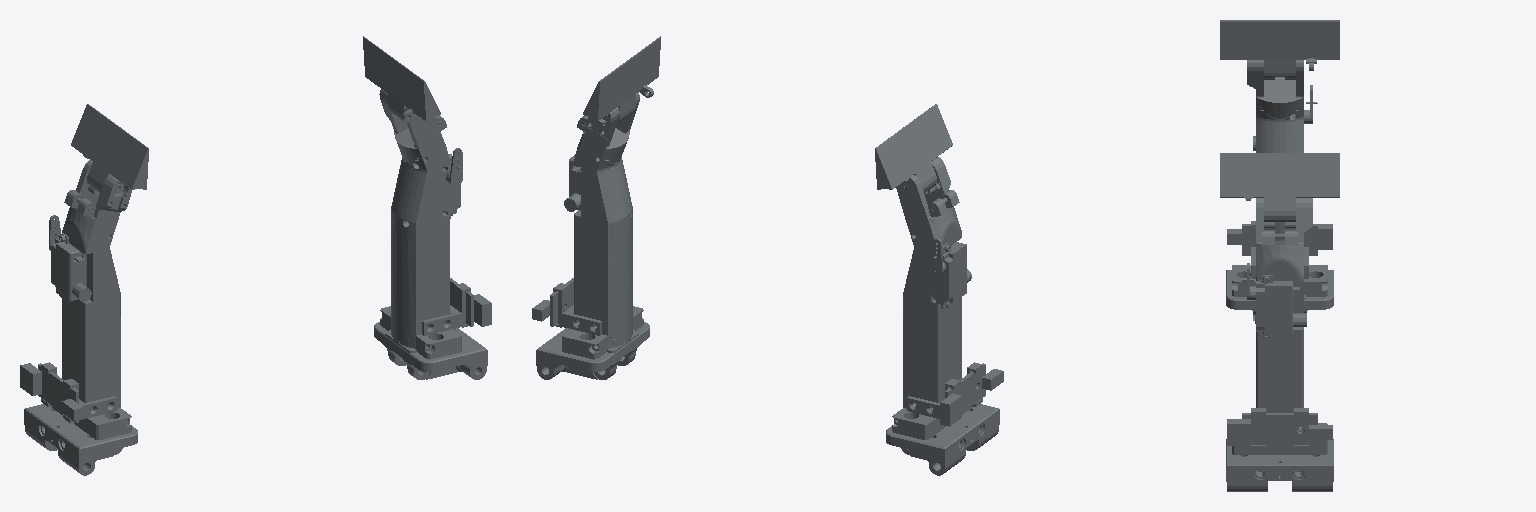
The robot description file, URDF, robot "lc_soft_enable_wide_grip":
<robot name="lc_soft_enable_wide_grip">
	<link name="base_link">
		<collision>
			<geometry>
				<mesh filename="package://lc_soft_enable_wide_grip/meshes/lc_soft_enable_wide_grip_Base_SWA_collision.stl" scale="1.0 1.0 1.0" />
			</geometry>
			<origin rpy="0 0 0" xyz="0 0 0" />
		</collision>
		<visual>
			<geometry>
				<mesh filename="package://lc_soft_enable_wide_grip/meshes/lc_soft_enable_wide_grip_Base_SWA.stl" scale="1.0 1.0 1.0" />
			</geometry>
			<origin rpy="0 0 0" xyz="0 0 0" />
			<material name="lc_soft_enable_wide_grip_Base_SWA.stl">
				<color rgba="0.4891 0.5125 0.5281 1.0" />
			</material>
		</visual>
		<inertial>
			<inertia ixx="0.0025119065" ixy="6.6303825e-07" ixz="3.2623689e-07" iyy="0.0022695104" iyz="3.6003285e-05" izz="0.0011107062" />
			<origin rpy="0 0 0" xyz="8.0969962e-06 0.0055754613 0.06269477" />
			<mass value="1.088118" />
		</inertial>
	</link>
	<link name="right_finger_link">
		<collision>
			<geometry>
				<mesh filename="package://lc_soft_enable_wide_grip/meshes/right_base_100.stl" scale="0.001 0.001 0.001" />
			</geometry>
			<origin rpy="0 0 0" xyz="0 0 0" />
		</collision>
		<visual>
			<geometry>
				<mesh filename="package://lc_soft_enable_wide_grip/meshes/right_base_100.stl" scale="0.001 0.001 0.001" />
			</geometry>
			<origin rpy="0 0 0" xyz="0 0 0" />
			<material name="lc_soft_enable_wide_grip_Right_Base_RIGHT_BASE.stl">
				<color rgba="0.4891 0.5125 0.5281 1.0" />
			</material>
		</visual>
		<inertial>
			<inertia ixx="1.1768394e-05" ixy="-6.2909428e-08" ixz="-3.6349539e-06" iyy="3.9431049e-05" iyz="-3.2865666e-07" izz="4.1707704e-05" />
			<origin rpy="0 0 0" xyz="0.020046839 -0.00032181022 -0.0055554777" />
			<mass value="0.071622239" />
		</inertial>
	</link>
	<link name="right_tip_link">
		<collision>
			<geometry>
				<mesh filename="package://lc_soft_enable_wide_grip/meshes/right_distal_20.stl" scale="0.001 0.001 0.001" />
			</geometry>
			<origin rpy="0 0 0" xyz="0 0 0" />
		</collision>
		<visual>
			<geometry>
				<mesh filename="package://lc_soft_enable_wide_grip/meshes/right_distal_20.stl" scale="0.001 0.001 0.001" />
			</geometry>
			<origin rpy="0 0 0" xyz="0 0 0" />
			<material name="lc_soft_enable_wide_grip_Right_Distal_RIGHT_DISTAL.stl">
				<color rgba="0.4891 0.5125 0.5281 1.0" />
			</material>
		</visual>
		<inertial>
			<inertia ixx="2.4290894e-06" ixy="2.7371321e-07" ixz="-4.0328611e-09" iyy="2.6146567e-06" iyz="9.9713504e-09" izz="6.7624098e-07" />
			<origin rpy="0 0 0" xyz="-0.0081993292 0.0060080724 0.00015047764" />
			<mass value="0.013727707" />
		</inertial>
	</link>
	<link name="left_finger_link">
		<collision>
			<geometry>
				<mesh filename="package://lc_soft_enable_wide_grip/meshes/left_base_100.stl" scale="0.001 0.001 0.001" />
			</geometry>
			<origin rpy="0 0 0" xyz="0 0 0" />
		</collision>
		<visual>
			<geometry>
				<mesh filename="package://lc_soft_enable_wide_grip/meshes/left_base_100.stl" scale="0.001 0.001 0.001" />
			</geometry>
			<origin rpy="0 0 0" xyz="0 0 0" />
			<material name="lc_soft_enable_wide_grip_Left_Base_left_base.stl">
				<color rgba="0.4891 0.5125 0.5281 1.0" />
			</material>
		</visual>
		<inertial>
			<inertia ixx="1.1684398e-05" ixy="-1.3930447e-07" ixz="-3.4062422e-06" iyy="3.8446897e-05" iyz="-3.5507094e-07" izz="4.0761693e-05" />
			<origin rpy="0 0 0" xyz="0.019776202 -0.00030196559 -0.0056210743" />
			<mass value="0.071214922" />
		</inertial>
	</link>
	<link name="left_tip_link">
		<collision>
			<geometry>
				<mesh filename="package://lc_soft_enable_wide_grip/meshes/left_distal_20.stl" scale="0.001 0.001 0.001" />
			</geometry>
			<origin rpy="0 0 0" xyz="0 0 0" />
		</collision>
		<visual>
			<geometry>
				<mesh filename="package://lc_soft_enable_wide_grip/meshes/left_distal_20.stl" scale="0.001 0.001 0.001" />
			</geometry>
			<origin rpy="0 0 0" xyz="0 0 0" />
			<material name="lc_soft_enable_wide_grip_Left_Distal_LEFT_DISTAL.stl">
				<color rgba="0.4891 0.5125 0.5281 1.0" />
			</material>
		</visual>
		<inertial>
			<inertia ixx="2.4290894e-06" ixy="2.7371321e-07" ixz="-4.0328611e-09" iyy="2.6146567e-06" iyz="9.9713504e-09" izz="6.7624098e-07" />
			<origin rpy="0 0 0" xyz="-0.0081993292 0.0060080724 0.00015047764" />
			<mass value="0.013727707" />
		</inertial>
	</link>
	<joint name="right_finger" type="prismatic">
		<parent link="base_link" />
		<child link="right_finger_link" />
		<axis xyz="0 0 1" />
		<limit effort="100000000000000000" lower="0" upper="0.0575" velocity="100000000000000000" />
		<origin rpy="-3.141592653589793 -1.5707963057214722 0" xyz="-0.07658 -4.689172593935216e-18 0.1335" />
	</joint>
	<joint name="right_tip" type="revolute">
		<parent link="right_finger_link" />
		<child link="right_tip_link" />
		<axis xyz="0 0 1" />
		<limit effort="100000000000000000" lower="0" upper="1.0471975511965976" velocity="100000000000000000" />
		<origin rpy="-1.5707963267948963 0.87266404218453 3.141592653589793" xyz="0.1095 0.0 0.005375" />
	</joint>
	<joint name="left_base" type="prismatic">
		<parent link="base_link" />
		<child link="left_finger_link" />
		<axis xyz="0 0 1" />
		<limit effort="100000000000000000" lower="0" upper="0.0575" velocity="100000000000000000" />
		<origin rpy="1.874699728327322e-33 -1.5707963057214722 0" xyz="0.07658 4.689172593935216e-18 0.1335" />
	</joint>
	<joint name="left_tip" type="revolute">
		<parent link="left_finger_link" />
		<child link="left_tip_link" />
		<axis xyz="0 0 1" />
		<limit effort="100000000000000000" lower="0" upper="1.0471975511965976" velocity="100000000000000000" />
		<origin rpy="-1.5707963267948968 0.8726640421845309 3.141592653589793" xyz="0.1095 0.0 0.005375" />
	</joint>
</robot>

--- What the picture shows (computed from the rendered views, not written in the file) ---
The picture shows the robot from 3 angles, left to right: view 1: azimuth 30°, elevation 25°; view 2: azimuth 150°, elevation 25°; view 3: azimuth 270°, elevation 25°; orthographic projection.
Model lc_soft_enable_wide_grip with 5 links and 4 joints (2 revolute, 2 prismatic), rooted at base_link, posed all joints at 0.
Visible links, largest first — view 1: right_finger_link, left_finger_link, right_tip_link, left_tip_link; view 2: right_finger_link, left_finger_link, right_tip_link, left_tip_link; view 3: left_finger_link, right_finger_link, left_tip_link, right_tip_link.
Boxes of the visible links, box(x1,y1,x2,y2) form: right_finger_link: box(20, 160, 137, 475); left_finger_link: box(374, 89, 491, 379); right_tip_link: box(71, 104, 148, 196); left_tip_link: box(363, 36, 440, 123); right_finger_link: box(886, 157, 1003, 475); left_finger_link: box(532, 92, 649, 379); right_tip_link: box(875, 104, 952, 196); left_tip_link: box(583, 36, 660, 123); left_finger_link: box(1226, 198, 1333, 491); right_finger_link: box(1226, 59, 1333, 323); left_tip_link: box(1220, 153, 1339, 228); right_tip_link: box(1220, 20, 1339, 79).
Size in the robot's own frame: 0.1974 by 0.05 by 0.1428 metres.
Meshes: 5 distinct files referenced, 4 mesh visuals loaded (4 binary STL); not drawn: 1 (reference not matched to a file when rendering).